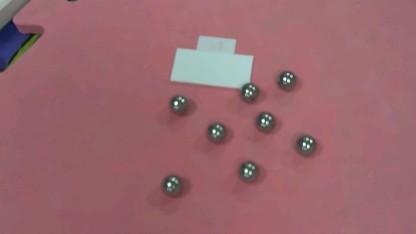ironball: (289, 129, 321, 156), (159, 173, 190, 197), (274, 66, 299, 93), (165, 91, 193, 115), (207, 118, 233, 141), (238, 76, 260, 101), (237, 157, 258, 183), (252, 109, 274, 131)
